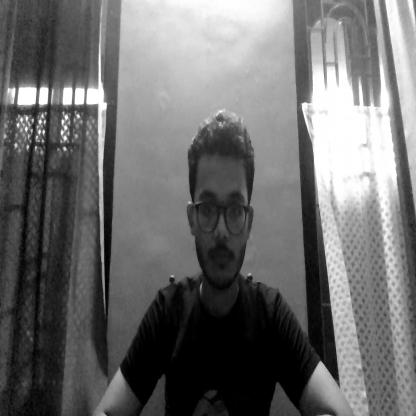Normal: (183, 114, 262, 283)
